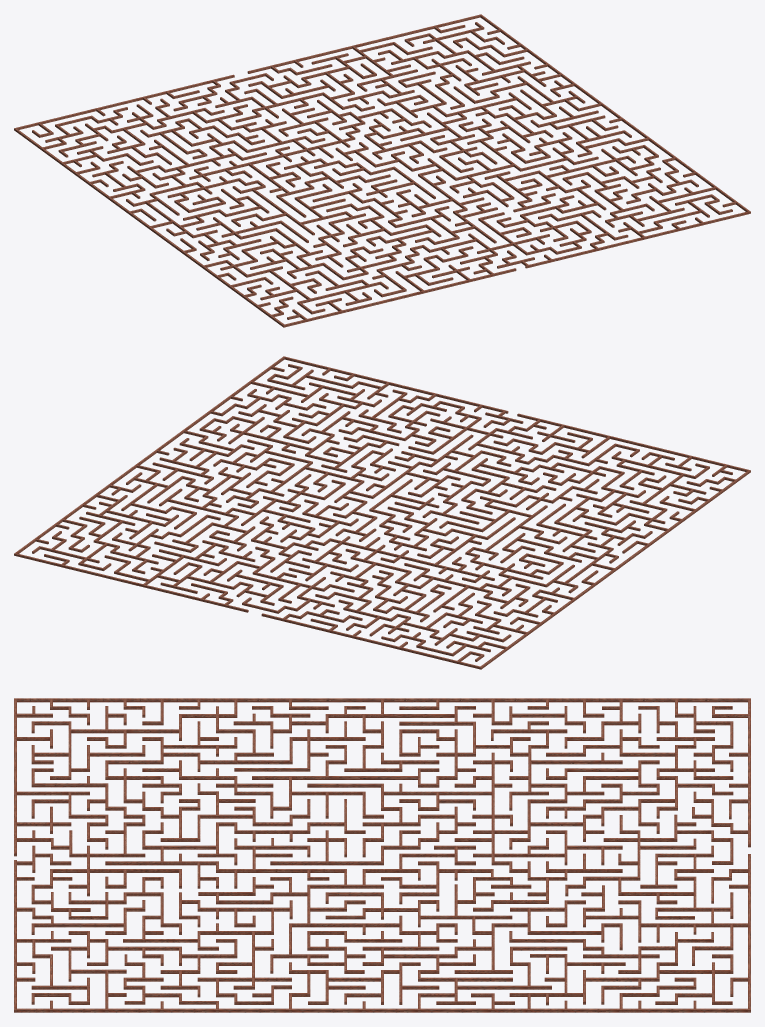
The model's file is maze.obj.
3 views of the same model, one above another, from view 1: azimuth 30°, elevation 25°; view 2: azimuth 150°, elevation 25°; view 3: azimuth 270°, elevation 25° (orthographic). The views are drawn at different scales.
Visible parts, largest first — view 1: Maze_Cube.002; view 2: Maze_Cube.002; view 3: Maze_Cube.002.
Part boxes in pixels (<box>): Maze_Cube.002: <box>14,14,750,327</box>; Maze_Cube.002: <box>14,356,750,669</box>; Maze_Cube.002: <box>14,698,750,1012</box>.
Size of the model in its own units: 100 by 0.4 by 100.
Materials: 1 (1 with a texture image).
